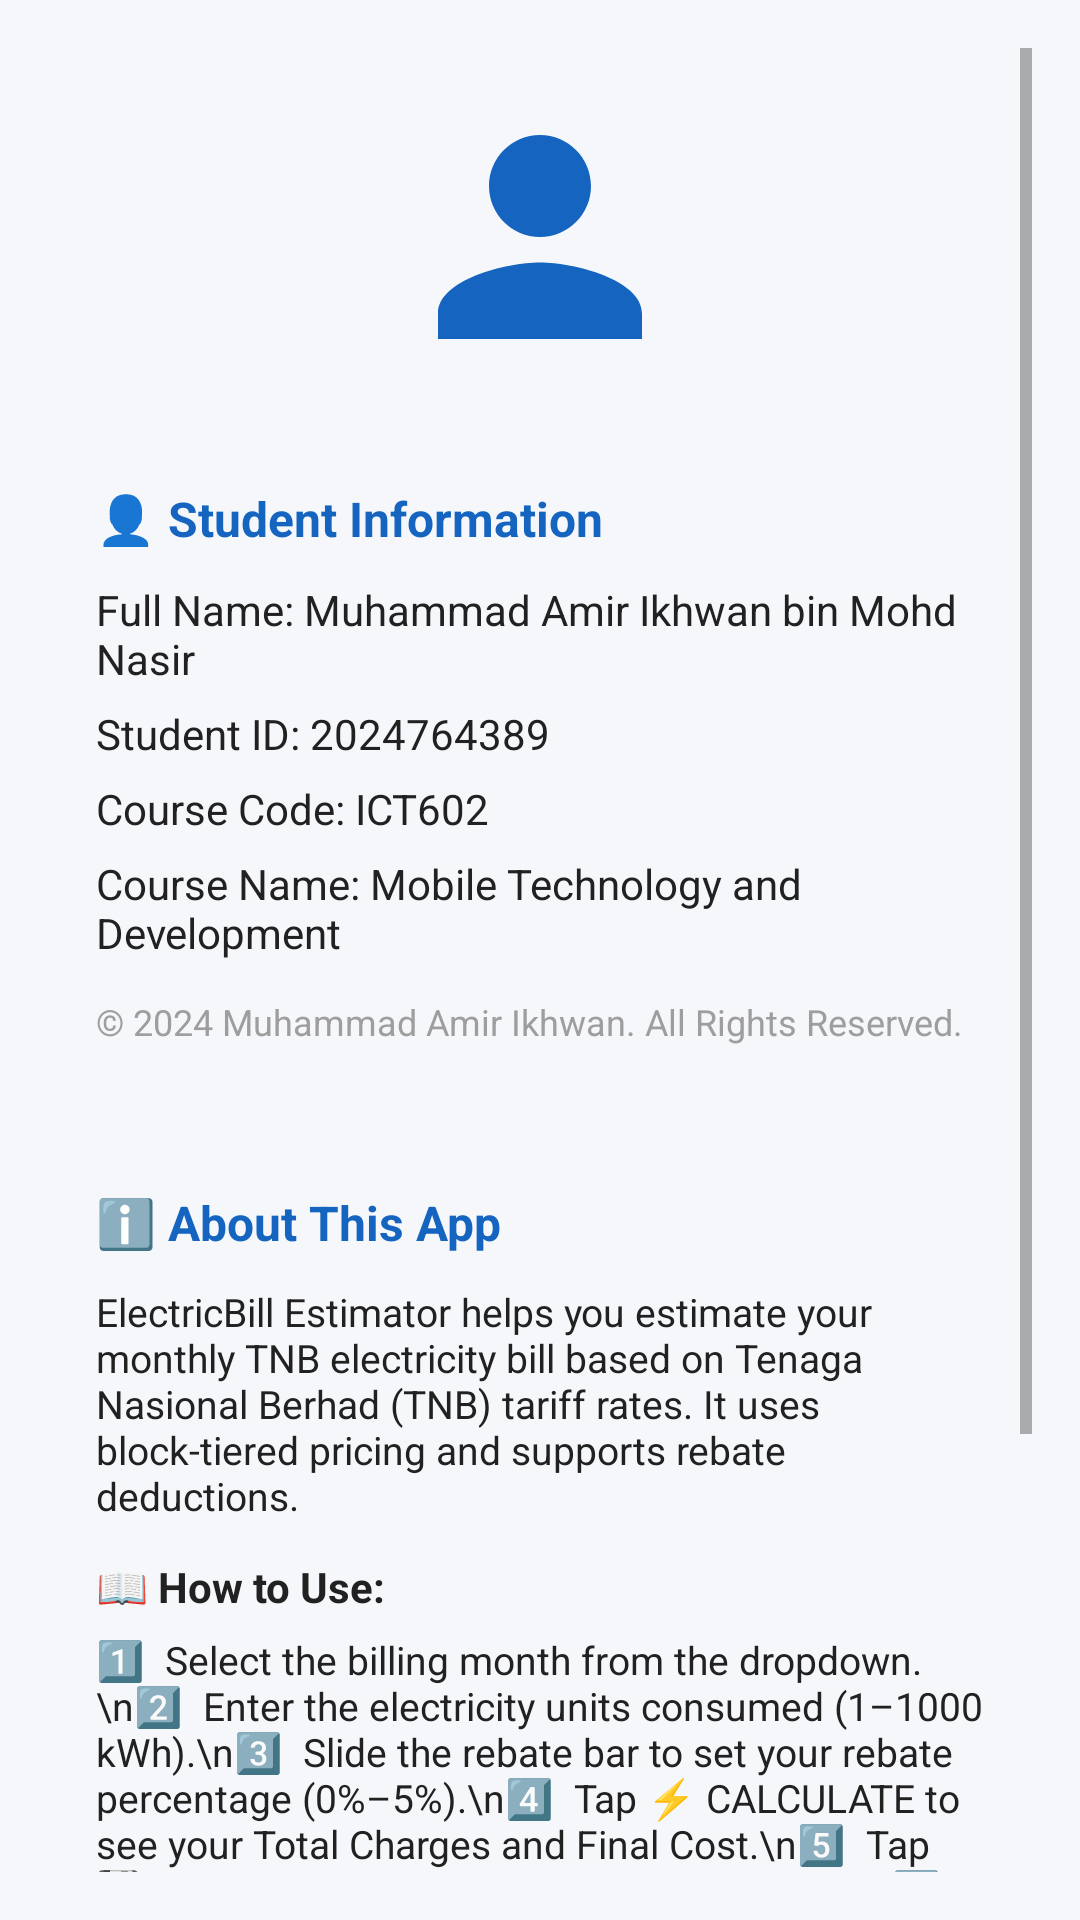

Icons on this 1080x1920 Android screen, each with the point to tap as (x=x, y=y):
Profile picture: (x=540, y=237)
